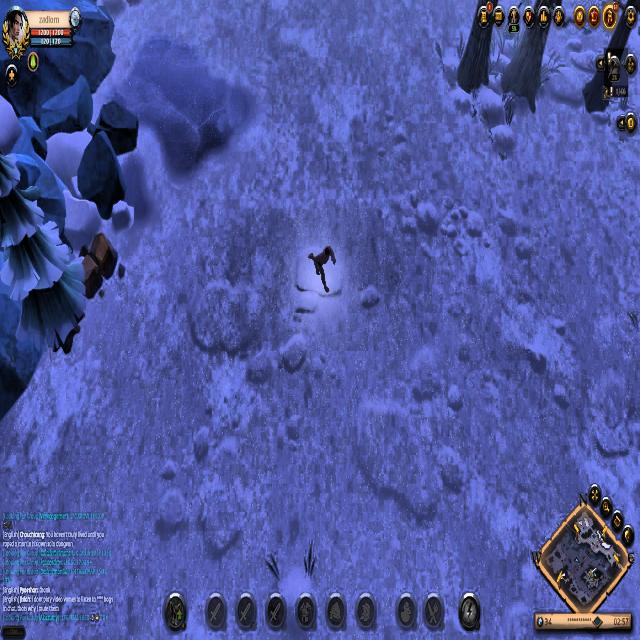limestone: (82, 226, 126, 299)
